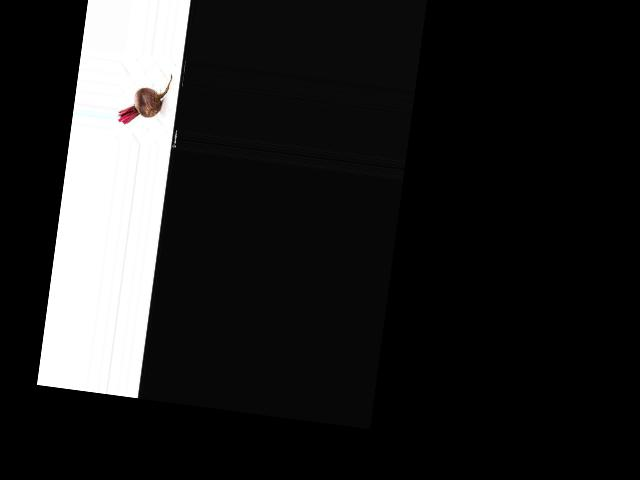beet: (117, 67, 172, 128)
